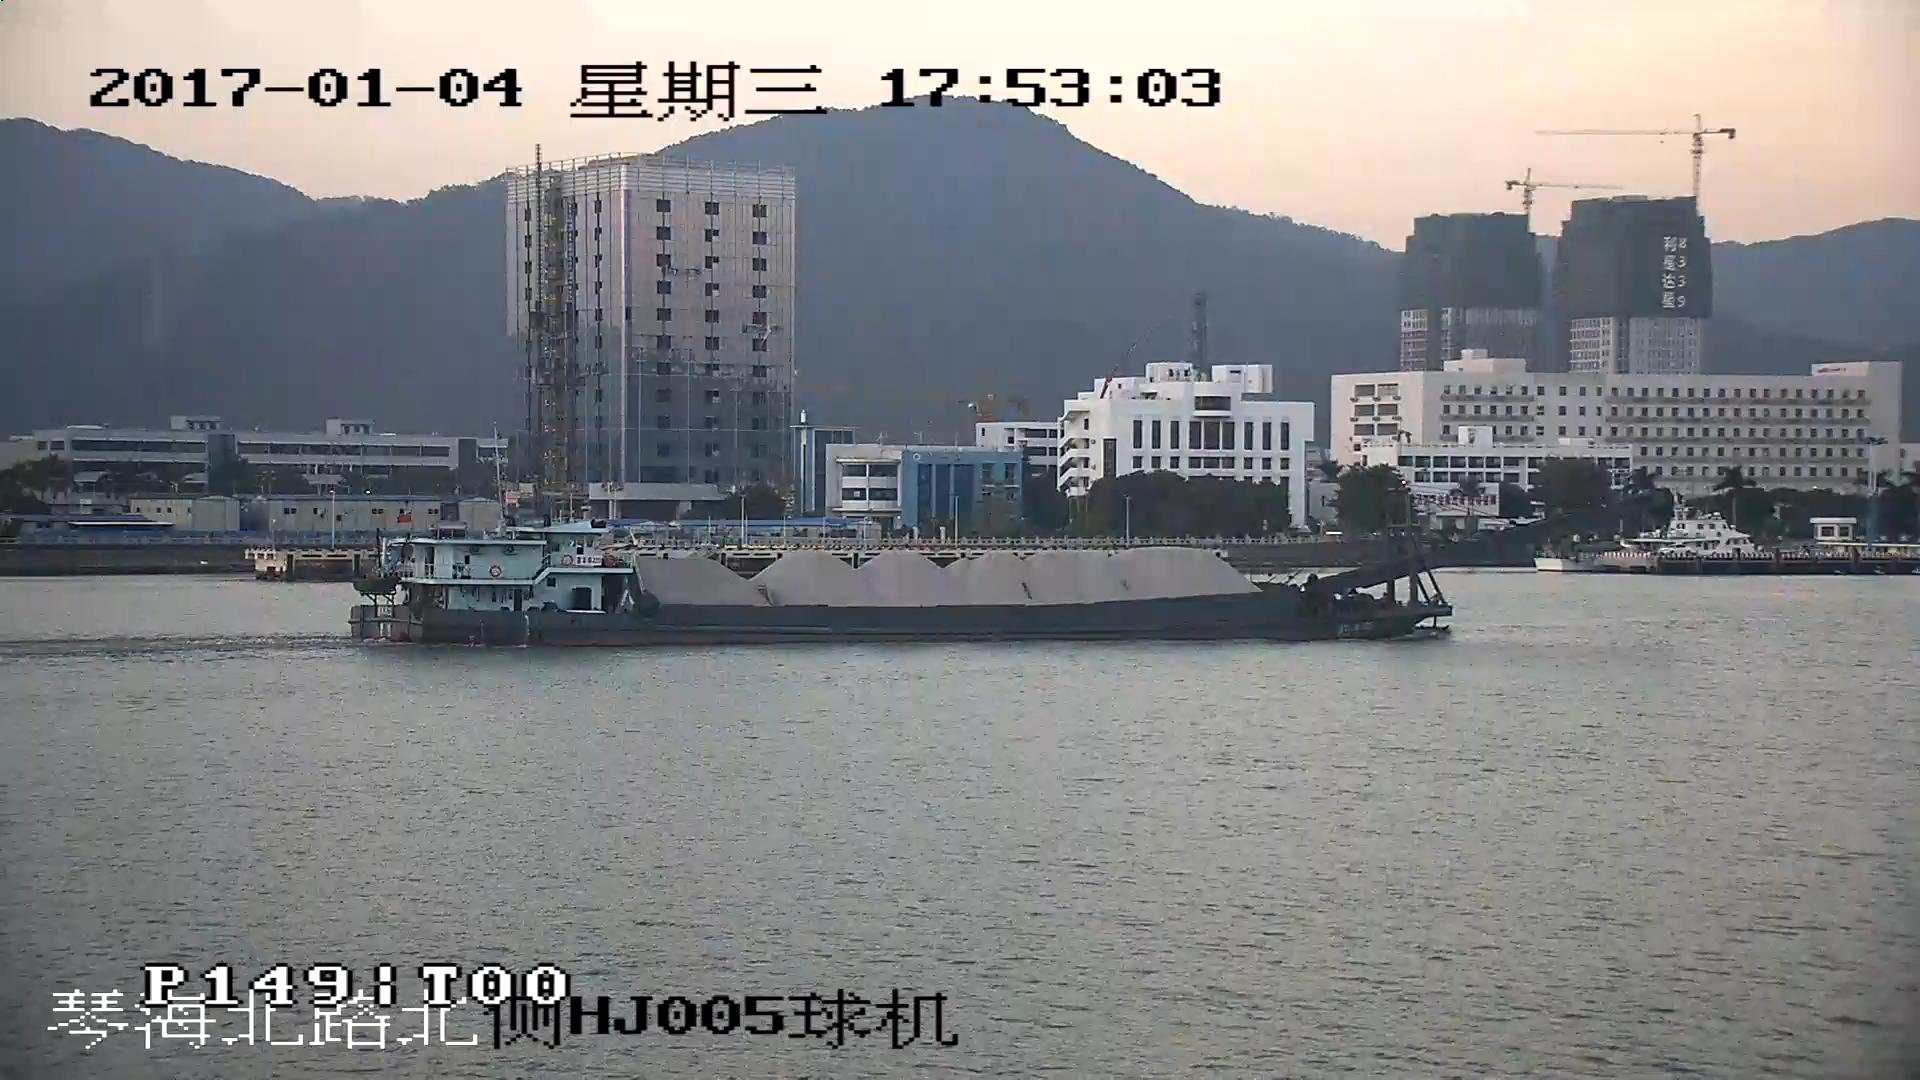ore carrier: (351, 490, 1669, 654)
